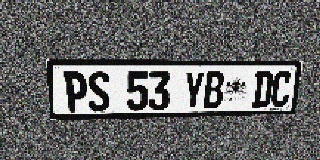3: (149, 71, 170, 110)
5: (127, 71, 148, 111)
B: (203, 71, 225, 109)
C: (270, 71, 292, 107)
D: (252, 71, 274, 108)
P: (63, 71, 88, 112)
S: (87, 71, 110, 112)
Y: (183, 71, 205, 109)
